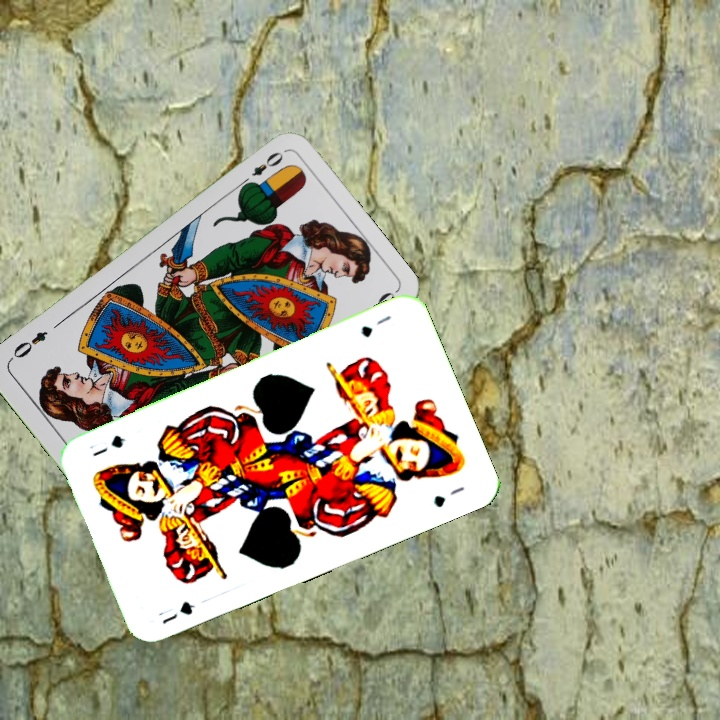EO: (236, 147, 286, 190)
GU: (154, 597, 197, 627), (357, 311, 394, 340)
